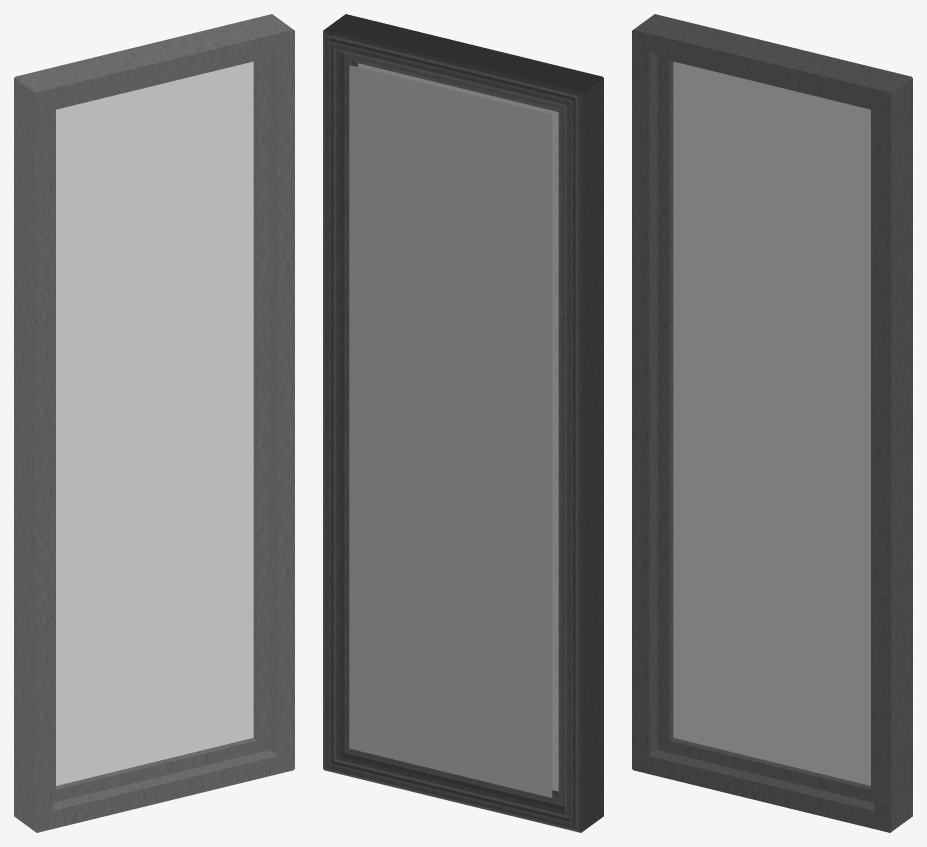
File: Window_bde8e018.obj
3 renders of one model, left to right at view 1: azimuth 30°, elevation 25°; view 2: azimuth 150°, elevation 25°; view 3: azimuth 330°, elevation 25°, orthographic.
Parts seen in each view (by area): view 1: FP212:polySurface7_5f0f20f5, FP212:WindowTreatment2__82e9b093, FP212:StandardWindow1__e77b40ad; view 2: QuadDecalSpawnPlane_bcd5963f, FP212:WindowTreatment2__82e9b093, FP212:StandardWindow1__e77b40ad, FP212:polySurface7_5f0f20f5; view 3: FP212:polySurface7_5f0f20f5, FP212:WindowTreatment2__82e9b093, FP212:StandardWindow1__e77b40ad.
Boxes of the visible parts, bbox=[...] form: FP212:polySurface7_5f0f20f5: bbox=[56, 61, 253, 785]; FP212:WindowTreatment2__82e9b093: bbox=[14, 14, 294, 832]; FP212:StandardWindow1__e77b40ad: bbox=[53, 54, 269, 802]; QuadDecalSpawnPlane_bcd5963f: bbox=[349, 65, 552, 797]; FP212:WindowTreatment2__82e9b093: bbox=[323, 14, 603, 832]; FP212:StandardWindow1__e77b40ad: bbox=[344, 53, 564, 806]; FP212:polySurface7_5f0f20f5: bbox=[357, 63, 558, 791]; FP212:polySurface7_5f0f20f5: bbox=[673, 61, 870, 785]; FP212:WindowTreatment2__82e9b093: bbox=[632, 14, 912, 832]; FP212:StandardWindow1__e77b40ad: bbox=[657, 54, 873, 802].
Size of the model in its own units: 0.9 by 2.46 by 0.141.
